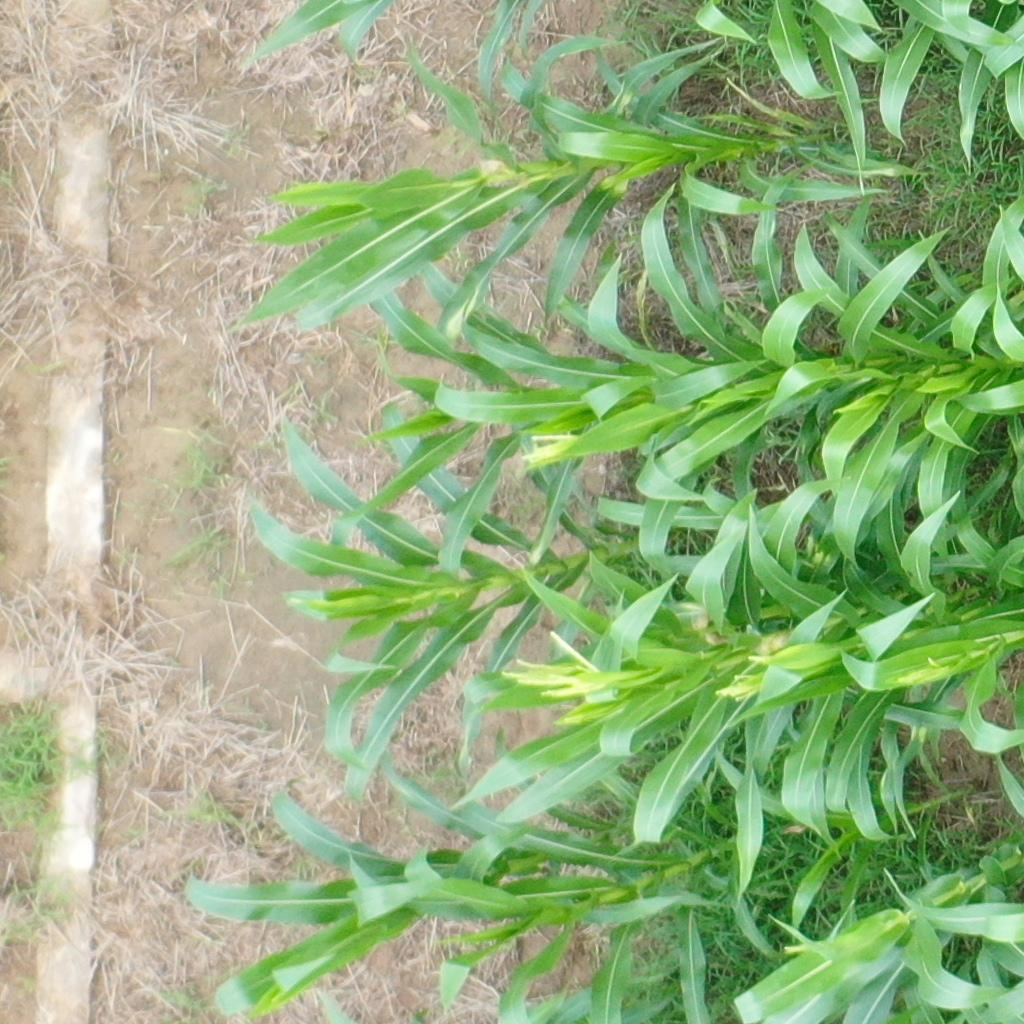Tassel: (500, 628, 626, 720), (520, 426, 582, 467), (711, 673, 763, 706), (890, 656, 937, 683)
